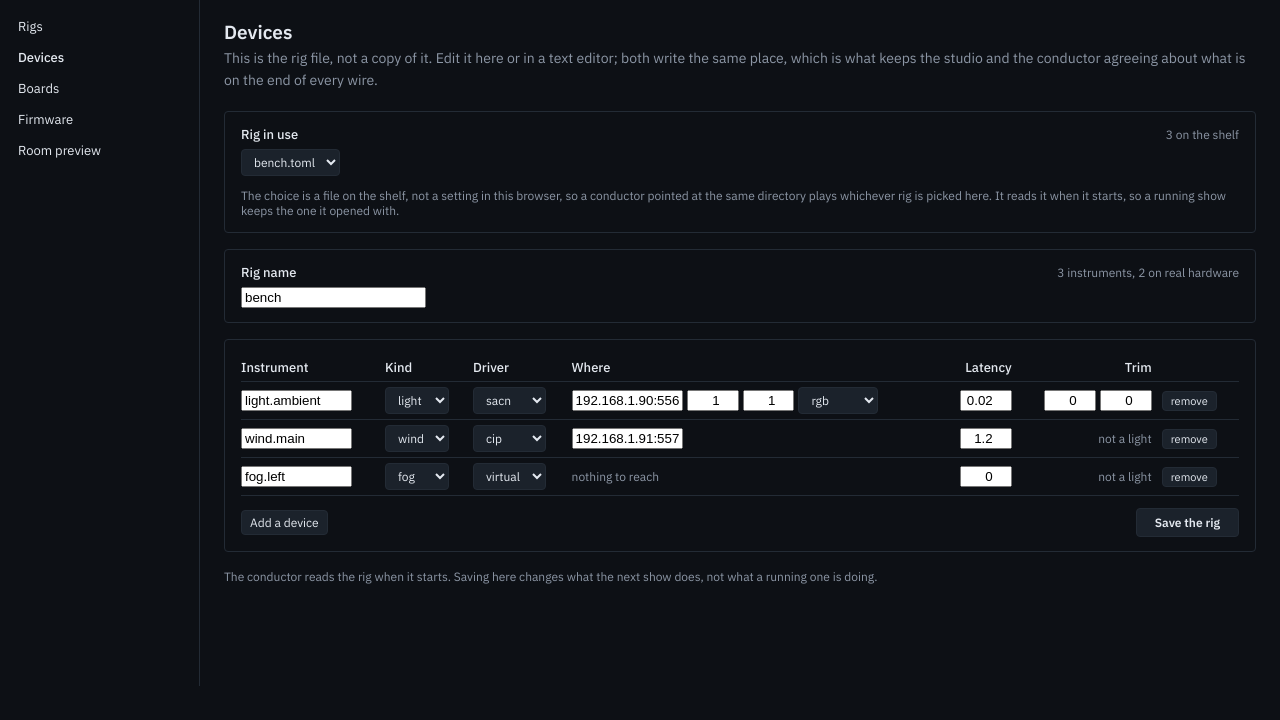
Test case: devices › asks for an address only where there is something to reach
Expected: the field named "Instrument 1 id" is shown, [241,390,352,411]
Select "cip" in the dropdown named "Instrument 3 driver" at {"x": 509, "y": 477}, box [473,463,546,490]
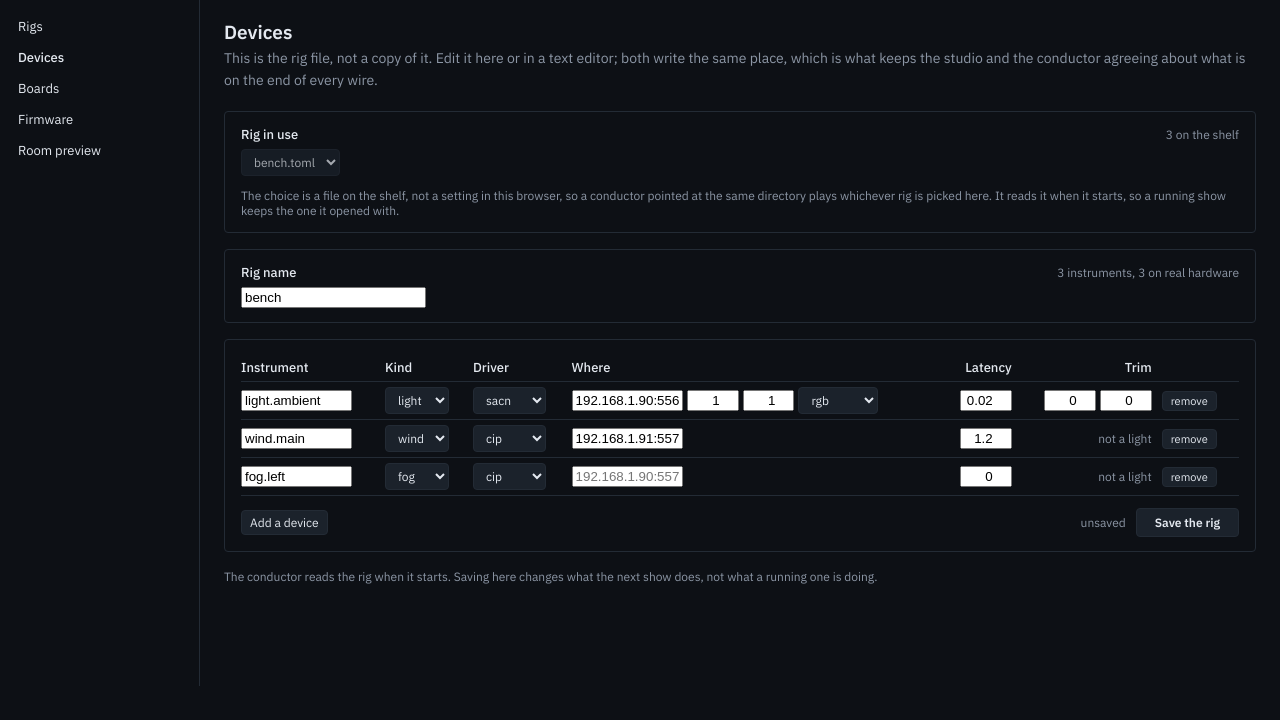
Now the field named "Instrument 3 address" is shown, box [572,466,683,487]
